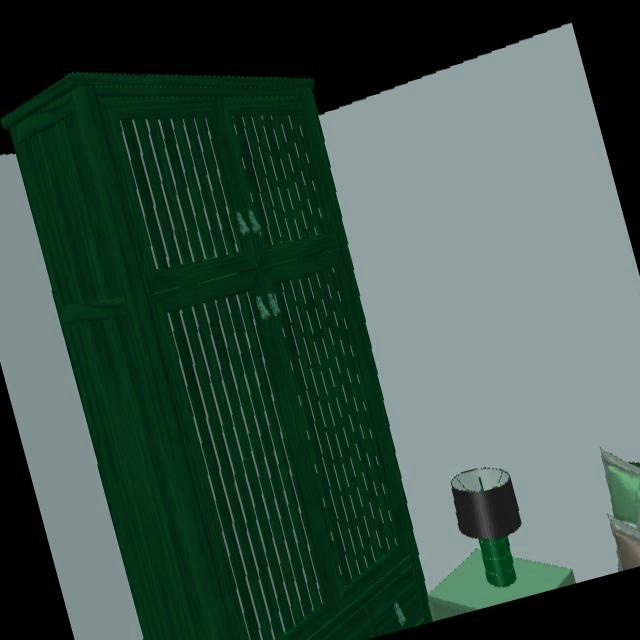lamp: (443, 466, 572, 608)
nighttable: (430, 551, 575, 621)
pillow: (603, 454, 640, 570)
wardrobe: (0, 71, 435, 640)
